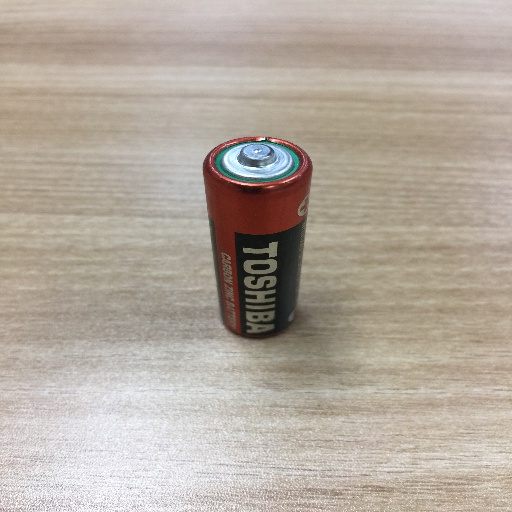Battery_0: (191, 126, 320, 362)
